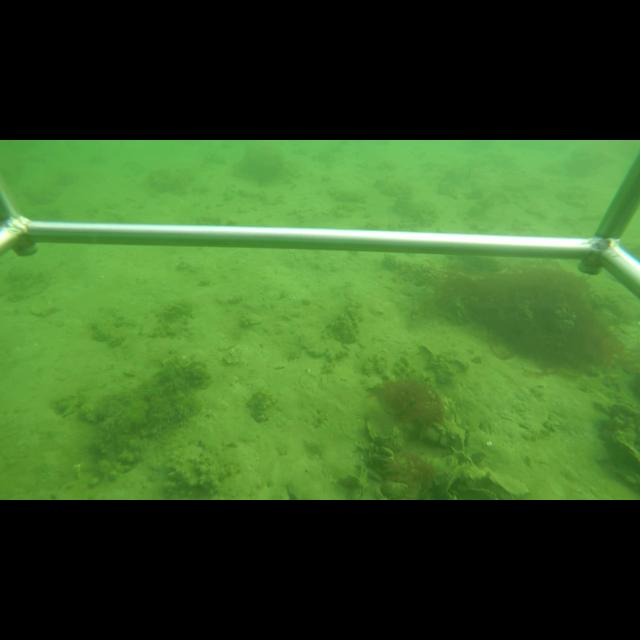Oyster-Closed: (489, 469, 531, 498)
